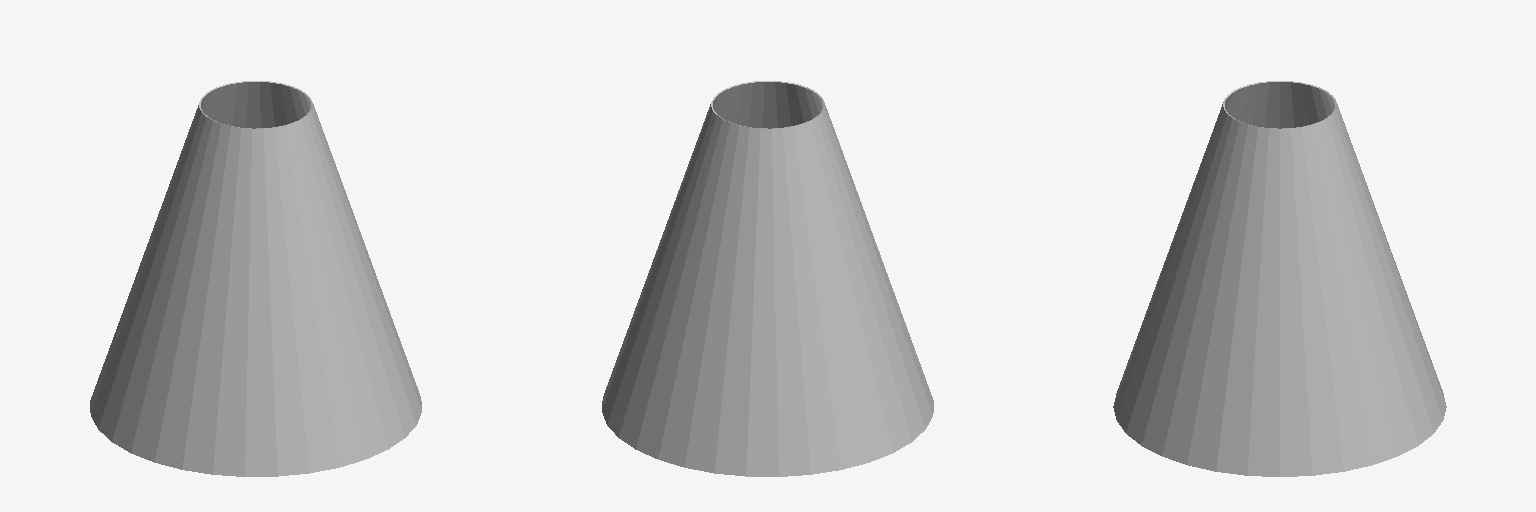
Rendered from lamp_icon.obj.
3 renders of one model, left to right at view 1: azimuth 30°, elevation 25°; view 2: azimuth 150°, elevation 25°; view 3: azimuth 270°, elevation 25°, orthographic.
Parts seen in each view (by area): view 1: Cylinder; view 2: Cylinder; view 3: Cylinder.
Boxes of the visible parts, x1,y1,x2,y2 form: Cylinder: [90, 81, 421, 476]; Cylinder: [602, 81, 933, 476]; Cylinder: [1113, 81, 1446, 476].
Bounding box in the file's own units: 2 × 2 × 2.